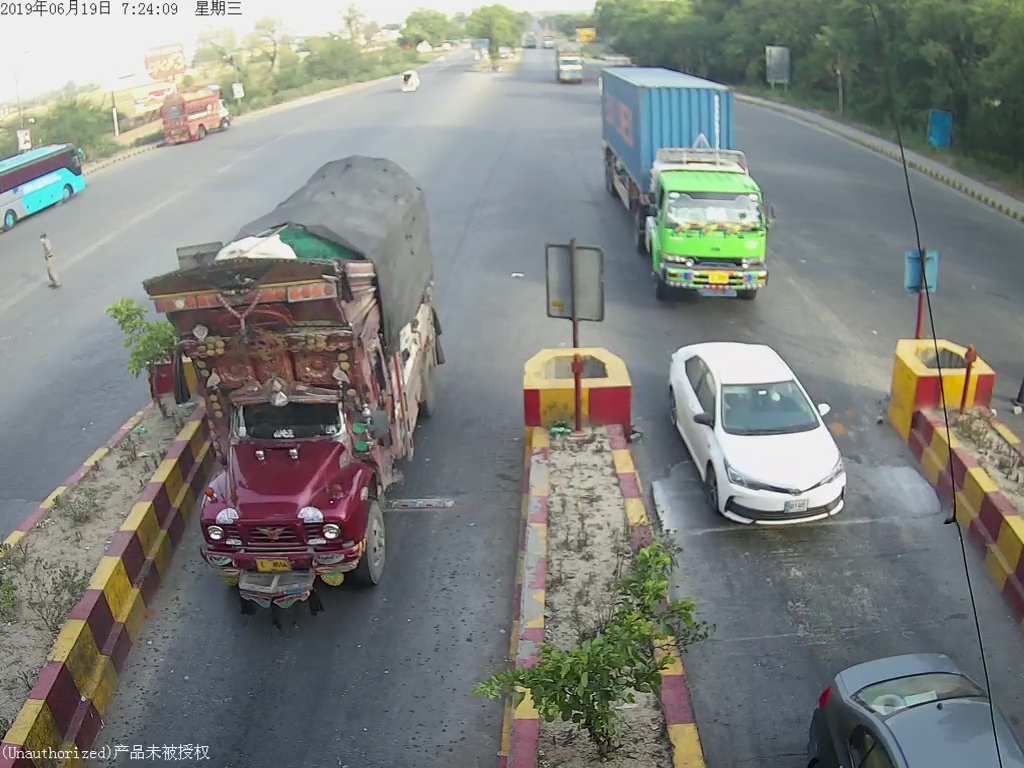Cat-1: (662, 336, 869, 547)
Cat-4: (154, 148, 452, 612)
Cat-5: (596, 55, 771, 298)
